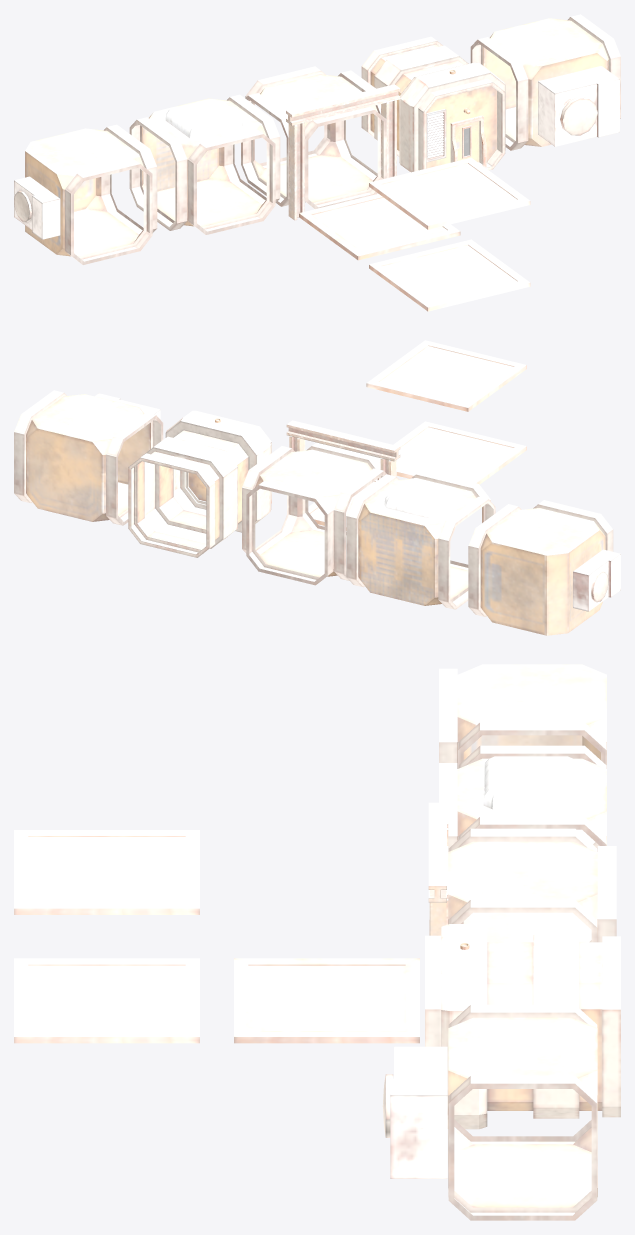
Rendered from stacks.glb.
3 renders of one model, top to bottom at view 1: azimuth 30°, elevation 25°; view 2: azimuth 150°, elevation 25°; view 3: azimuth 270°, elevation 25°, orthographic. The views are drawn at different scales.
Parts seen in each view (by area): view 1: Empty, T, O, R, I, =, Floor; view 2: R, I, Empty, O, T, =; view 3: Empty, =, I, O, T, Floor, R.
Part boxes in pixels (x1,y1,x2,y2): Empty: (470,14,620,150); T: (129,94,280,234); O: (241,66,400,220); R: (14,124,157,264); I: (361,36,505,172); =: (369,157,530,311); Floor: (299,194,460,260); R: (468,500,620,635); I: (128,410,271,557); Empty: (14,390,163,525); O: (242,420,400,585); T: (346,470,495,609); =: (366,340,526,484); Empty: (382,1004,597,1220); =: (14,830,199,1043); I: (425,924,620,1129); O: (428,802,616,942); T: (439,745,606,942); Floor: (234,958,419,1043); R: (439,664,606,851).
Bounding box in the file's own units: 25 × 4.55 × 14.6.
